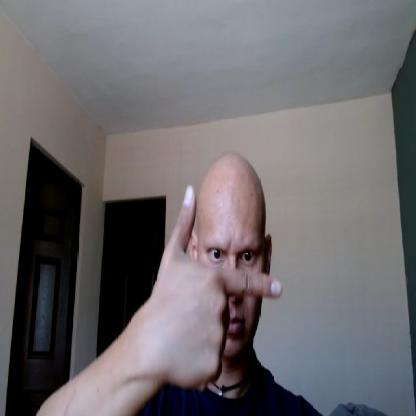G: (154, 186, 284, 387)
